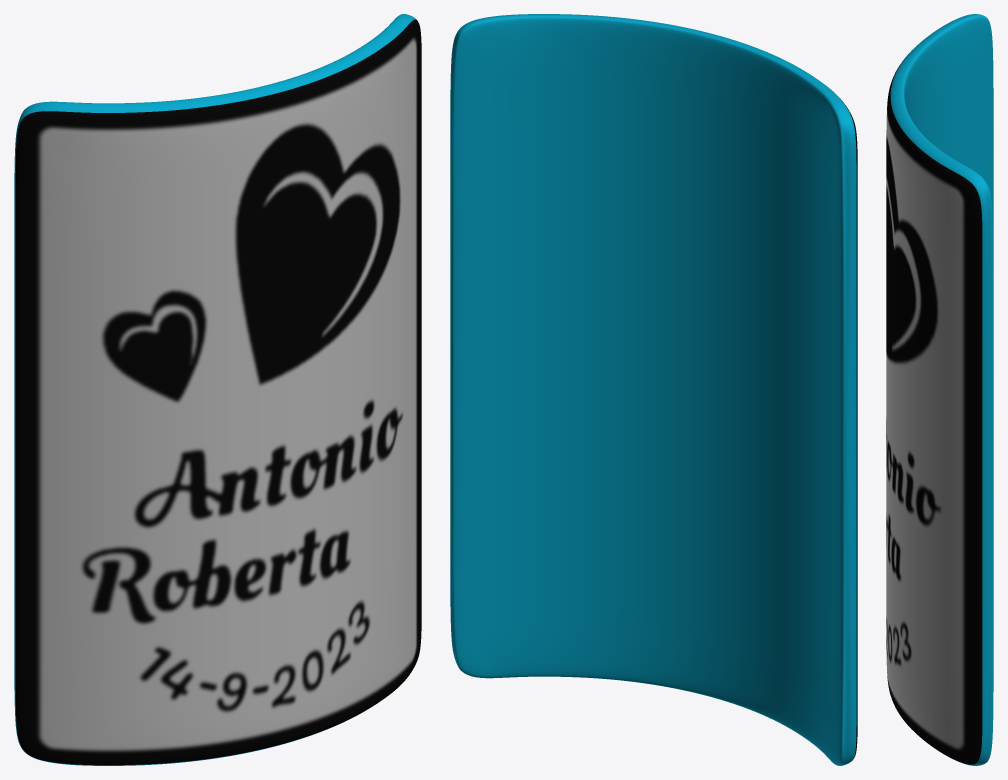
File: etiketta_rettangolare-PolyHD.gltf
3 renders of one model, left to right at view 1: azimuth 30°, elevation 25°; view 2: azimuth 150°, elevation 25°; view 3: azimuth 270°, elevation 25°, orthographic. The views are drawn at different scales.
Visible parts, largest first — view 1: Tube002 (×2); view 2: Tube002 (×2); view 3: Tube002 (×2).
Boxes of the visible parts, <box> form: Tube002 (×2): <box>14,14,421,765</box>; Tube002 (×2): <box>450,14,857,765</box>; Tube002 (×2): <box>886,14,993,765</box>.
Bounding box in the file's own units: 0.0638 × 0.0994 × 0.0162.
Materials: 2 (1 with a texture image).
